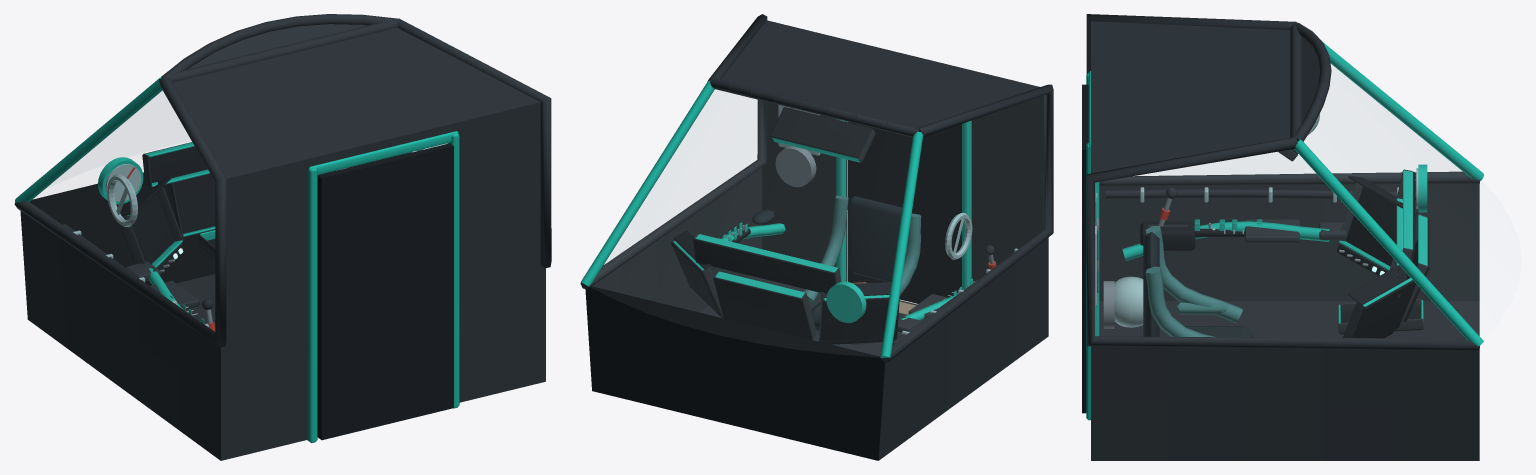
The model's file is stoat.glb.
The picture shows the model from 3 angles, left to right: view 1: azimuth 30°, elevation 25°; view 2: azimuth 150°, elevation 25°; view 3: azimuth 270°, elevation 25°; orthographic projection. The views are drawn at different scales.
Visible parts, largest first — view 1: Aft bulkhead - Frame, door, Forward shell - Frame, Roof - Frame, Instrument housings - Panel, Aft bulkhead - Trim, Forward shell - Panel, Forward shell - Trim, Instrument housings - Frame, Wear and repairs - Pale, Deck - Rubber, Instrument housings - Trim (+3 smaller); view 2: Forward shell - Frame, Forward shell - Panel, Aft bulkhead - Frame, Roof - Frame, Instrument housings - Panel, door, Forward shell - Trim, Pilot chair - Leather, Aft bulkhead - Trim, Instrument housings - Trim, Ship fittings - Upholstery, Ship fittings - Steel (+6 smaller); view 3: Forward shell - Frame, Roof - Frame, Deck - Rubber, Instrument housings - Panel, Forward shell - Trim, Ship fittings - Upholstery, Instrument housings - Trim, Wear and repairs - Rubber, Instrument housings - Frame, Owner clutter - Pale, Pilot chair - Leather, door (+7 smaller).
Part boxes in pixels (left/top/right/bottom): Aft bulkhead - Frame: left=221, top=102, right=545, bottom=460; door: left=317, top=143, right=453, bottom=440; Forward shell - Frame: left=14, top=14, right=551, bottom=460; Roof - Frame: left=164, top=18, right=540, bottom=178; Instrument housings - Panel: left=119, top=142, right=373, bottom=285; Aft bulkhead - Trim: left=307, top=131, right=459, bottom=443; Forward shell - Panel: left=30, top=172, right=215, bottom=285; Forward shell - Trim: left=15, top=77, right=162, bottom=202; Instrument housings - Frame: left=122, top=154, right=376, bottom=263; Wear and repairs - Pale: left=73, top=174, right=208, bottom=327; Deck - Rubber: left=176, top=274, right=215, bottom=325; Instrument housings - Trim: left=127, top=142, right=215, bottom=267; Forward shell - Frame: left=580, top=14, right=1053, bottom=460; Forward shell - Panel: left=585, top=286, right=884, bottom=460; Aft bulkhead - Frame: left=762, top=95, right=1043, bottom=281; Roof - Frame: left=712, top=20, right=1039, bottom=137; Instrument housings - Panel: left=671, top=107, right=900, bottom=344; door: left=847, top=121, right=961, bottom=303; Forward shell - Trim: left=581, top=80, right=923, bottom=358; Pilot chair - Leather: left=811, top=196, right=902, bottom=330; Aft bulkhead - Trim: left=836, top=119, right=971, bottom=289; Instrument housings - Trim: left=673, top=137, right=889, bottom=300; Ship fittings - Upholstery: left=804, top=195, right=921, bottom=304; Ship fittings - Steel: left=726, top=145, right=974, bottom=294; Forward shell - Frame: left=1086, top=14, right=1479, bottom=460; Roof - Frame: left=1091, top=21, right=1301, bottom=173; Deck - Rubber: left=1099, top=301, right=1479, bottom=338; Instrument housings - Panel: left=1291, top=149, right=1429, bottom=338; Forward shell - Trim: left=1294, top=42, right=1483, bottom=345; Ship fittings - Upholstery: left=1145, top=226, right=1242, bottom=337; Instrument housings - Trim: left=1338, top=170, right=1427, bottom=323; Wear and repairs - Rubber: left=1105, top=189, right=1416, bottom=200; Instrument housings - Frame: left=1278, top=149, right=1427, bottom=337; Owner clutter - Pale: left=1095, top=168, right=1418, bottom=327; Pilot chair - Leather: left=1143, top=232, right=1253, bottom=337; door: left=1082, top=84, right=1088, bottom=413.
Bounding box in the file's own units: 2.23 × 1.92 × 2.4.
